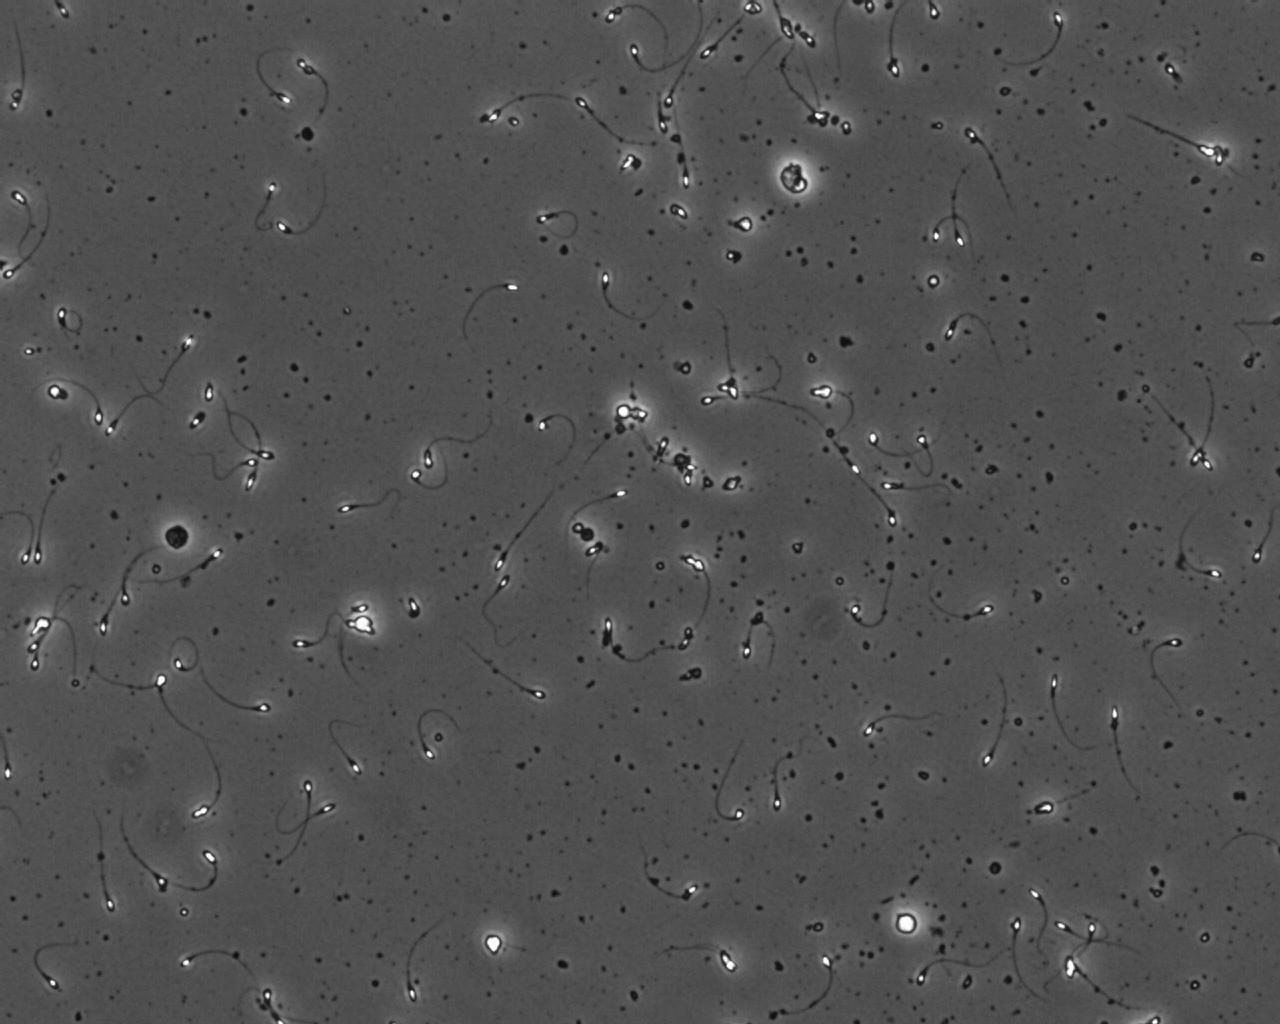cell: (777, 160, 810, 197), (161, 522, 192, 553), (892, 909, 921, 938), (480, 930, 506, 957), (350, 611, 377, 636), (44, 380, 71, 404), (612, 400, 636, 423)
